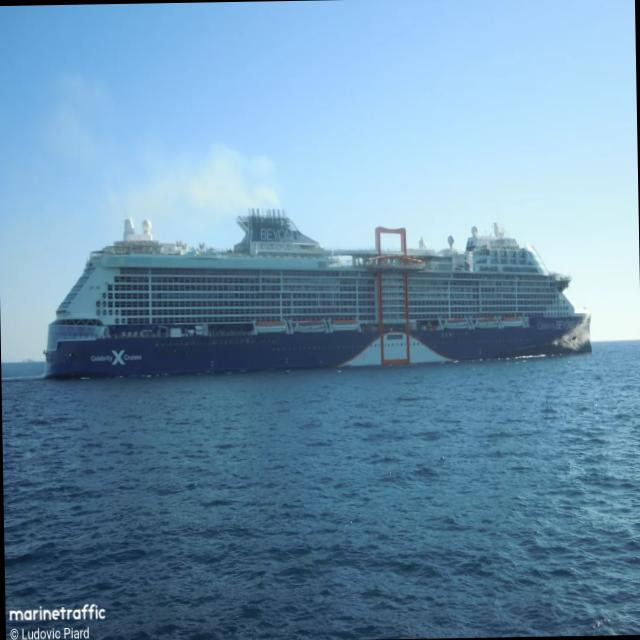Cruise: (43, 210, 590, 378)
